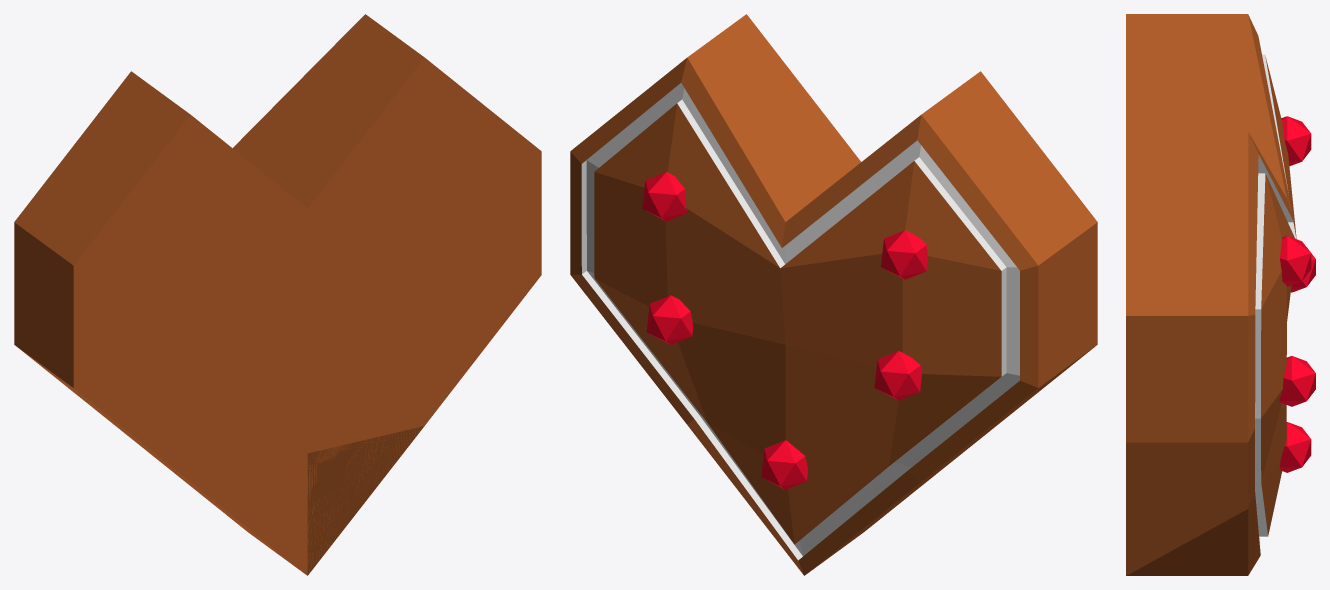
File: heart_01.fbx
The picture shows the model from 3 angles, left to right: view 1: azimuth 30°, elevation 25°; view 2: azimuth 150°, elevation 25°; view 3: azimuth 270°, elevation 25°; orthographic projection. The views are drawn at different scales.
Visible parts, largest first — view 1: Cube; view 2: Cube; view 3: Cube.
Part boxes in pixels (left/top/right/bottom): Cube: left=14, top=14, right=541, bottom=575; Cube: left=570, top=14, right=1097, bottom=575; Cube: left=1126, top=14, right=1315, bottom=575.
Size of the model in its own units: 400 by 400 by 137.
